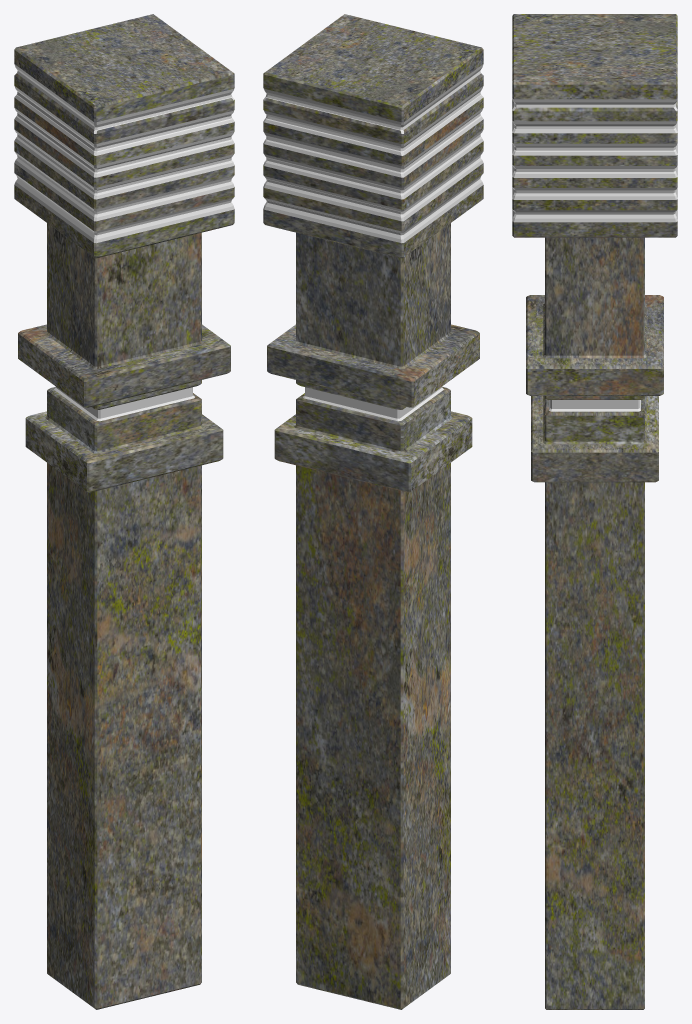
Rendered from lever.fbx.
3 views of the same model, side by side, from view 1: azimuth 30°, elevation 25°; view 2: azimuth 150°, elevation 25°; view 3: azimuth 270°, elevation 25° (orthographic).
Parts seen in each view (by area): view 1: Lever; view 2: Lever; view 3: Lever.
Boxes of the visible parts, box(x1,y1,x2,y2) form: Lever: box(14, 14, 234, 1009); Lever: box(263, 14, 483, 1009); Lever: box(512, 14, 677, 1009).
Size of the model in its own units: 50.25 by 300 by 48.05.
